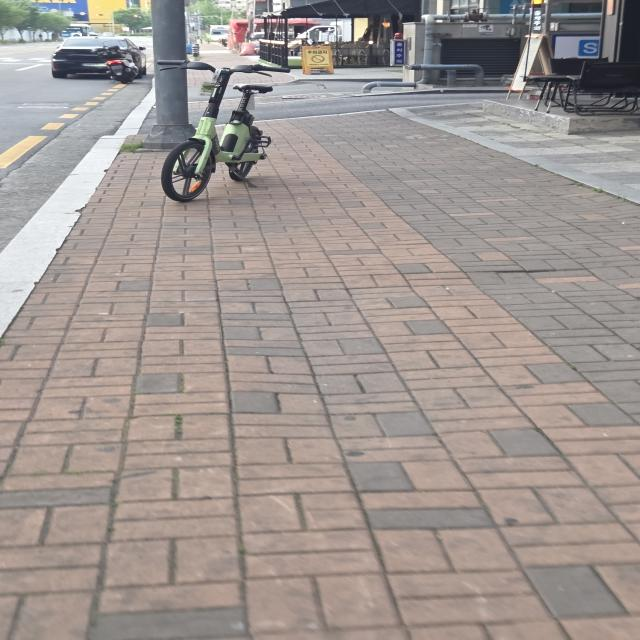bicycle: (145, 48, 287, 205)
